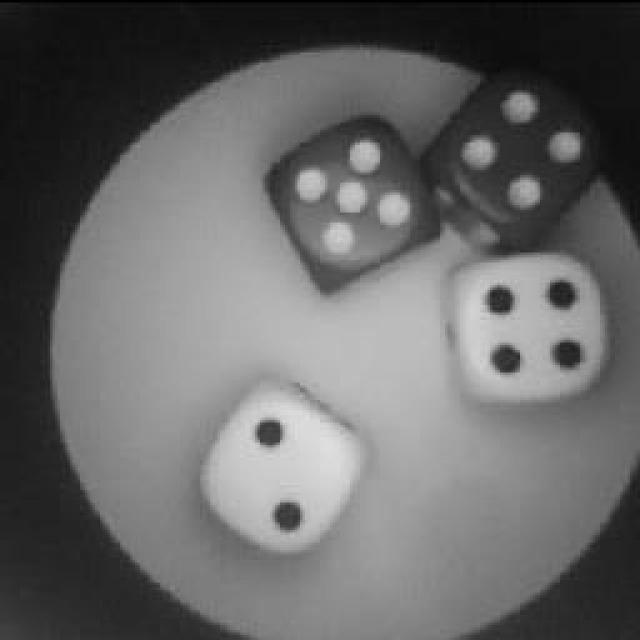dice_2: (192, 382, 370, 558)
dice_4: (430, 52, 612, 238), (440, 243, 615, 405)
dice_5: (260, 112, 440, 298)
